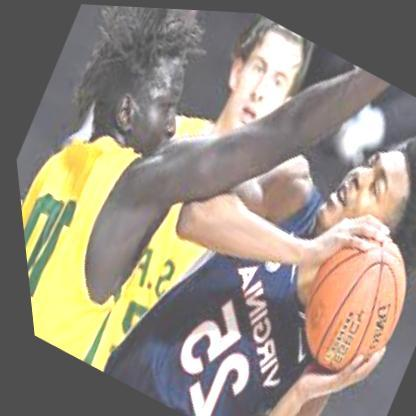basketball: (267, 207, 416, 392)
